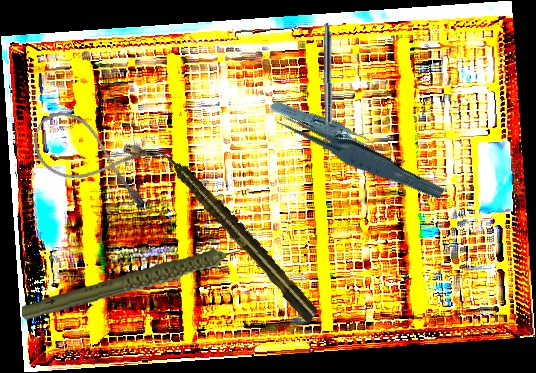Cannula: (23, 103, 165, 212)
Handpiece: (152, 139, 323, 327), (19, 245, 262, 322), (320, 23, 334, 144)
Tissue Forceps: (275, 100, 446, 212), (268, 81, 380, 175)
